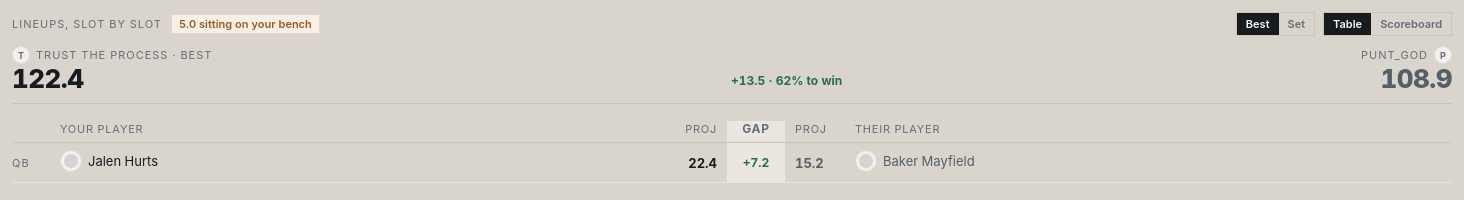
it: LineupCompare › toggles between the lineup you should start and the one you have set
Expected: the text "5.0 sitting on your bench" is shown, [171, 14, 320, 34]
Expected: the text "122.4" is shown, [12, 63, 84, 94]
Click the button "Set" at (1296, 24), box [1278, 13, 1314, 35]
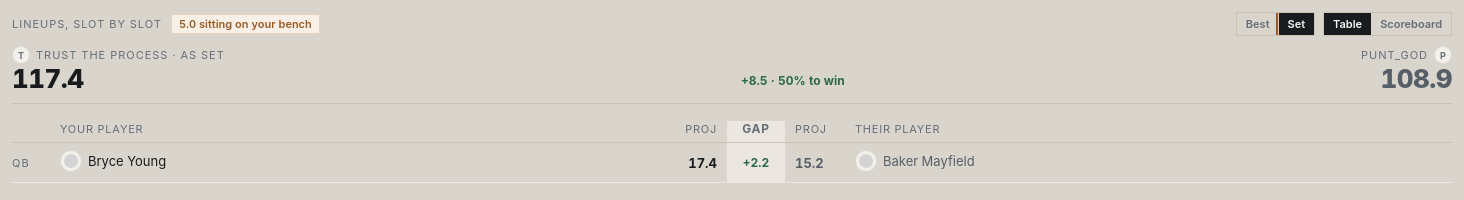
Result: the text "117.4" is shown at [12, 63, 84, 94]
Result: the text "Bryce Young" is shown at [88, 153, 166, 169]
Result: the text "Jalen Hurts" is gone
